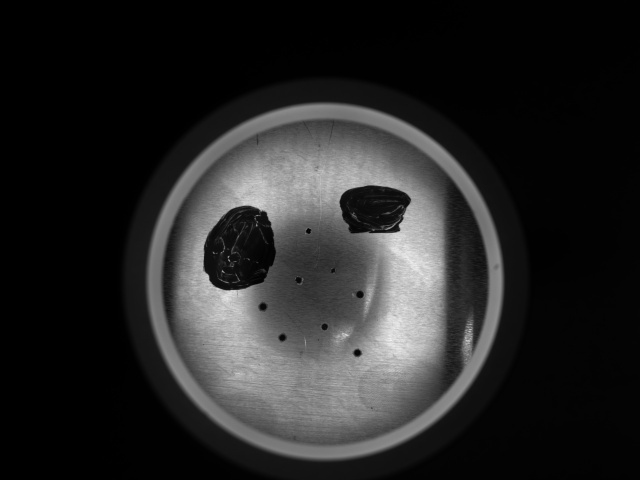zang_wu: (199, 194, 283, 299), (331, 172, 431, 243)
zhen_kong: (348, 280, 379, 313), (294, 220, 327, 244), (286, 267, 314, 294), (250, 295, 278, 321), (345, 339, 371, 366), (311, 314, 339, 339), (269, 326, 297, 350), (321, 260, 345, 282)
